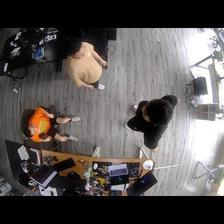normal: (125, 94, 178, 152), (60, 37, 108, 91), (23, 106, 80, 143)
